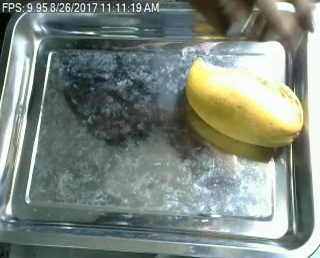Mango: (178, 54, 307, 154)
